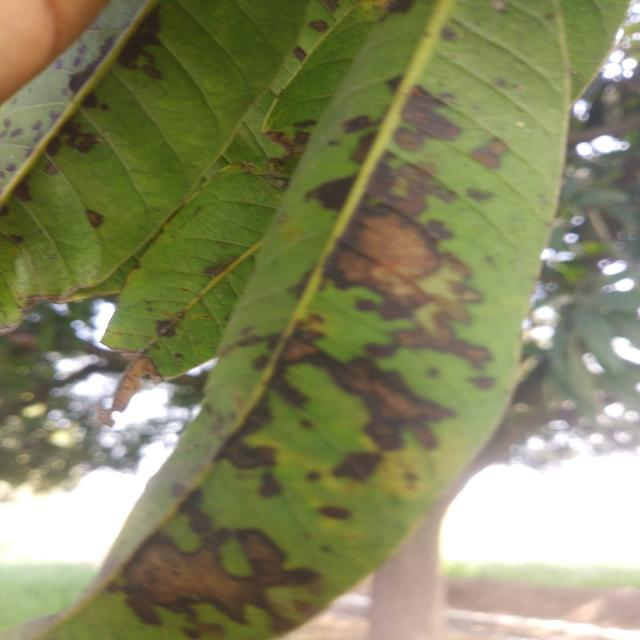Anthracnose: (315, 182, 469, 312), (135, 523, 297, 626), (334, 347, 437, 453), (386, 81, 471, 159)
black die: (58, 11, 174, 119), (58, 117, 99, 158), (11, 128, 25, 139)
